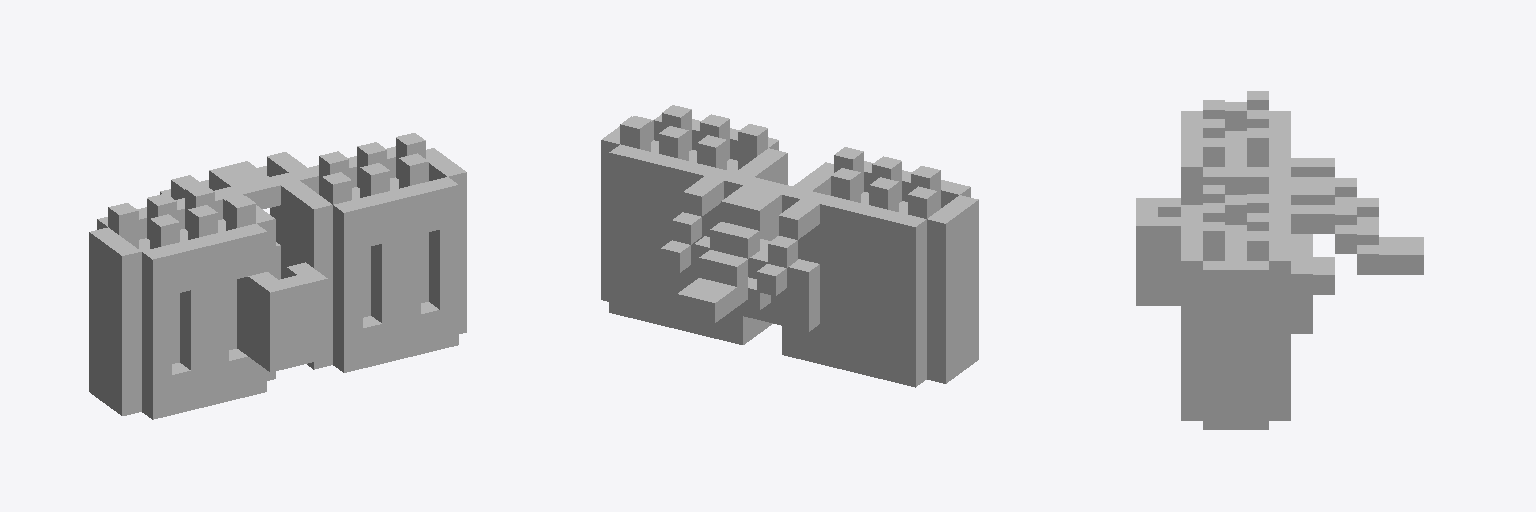
Rendered from Missile.obj.
3 renders of one model, left to right at view 1: azimuth 30°, elevation 25°; view 2: azimuth 150°, elevation 25°; view 3: azimuth 270°, elevation 25°, orthographic.
Parts seen in each view (by area): view 1: object 1; view 2: object 1; view 3: object 1.
Boxes of the visible parts, <box> form: object 1: <box>89,133,466,419</box>; object 1: <box>601,105,978,387</box>; object 1: <box>1136,91,1423,429</box>.
Size of the model in its own units: 1.8 by 0.9 by 1.3.